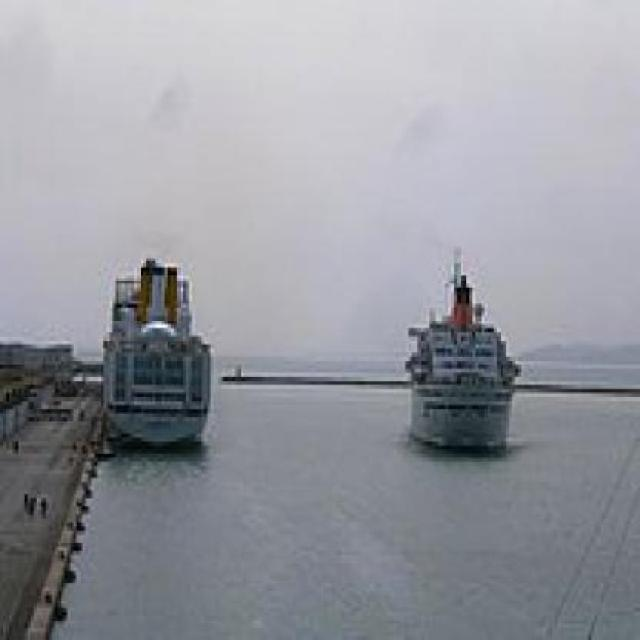cruise: (391, 228, 528, 463), (87, 240, 227, 463)
